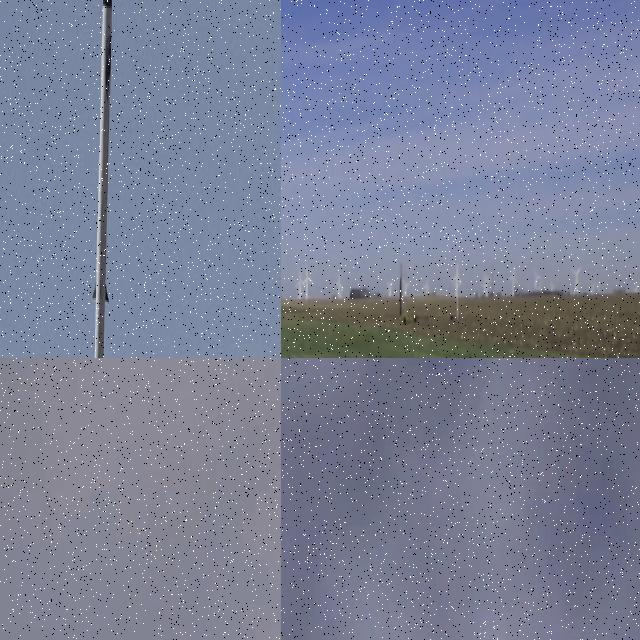Rocket: (80, 0, 115, 358), (399, 277, 402, 315)
